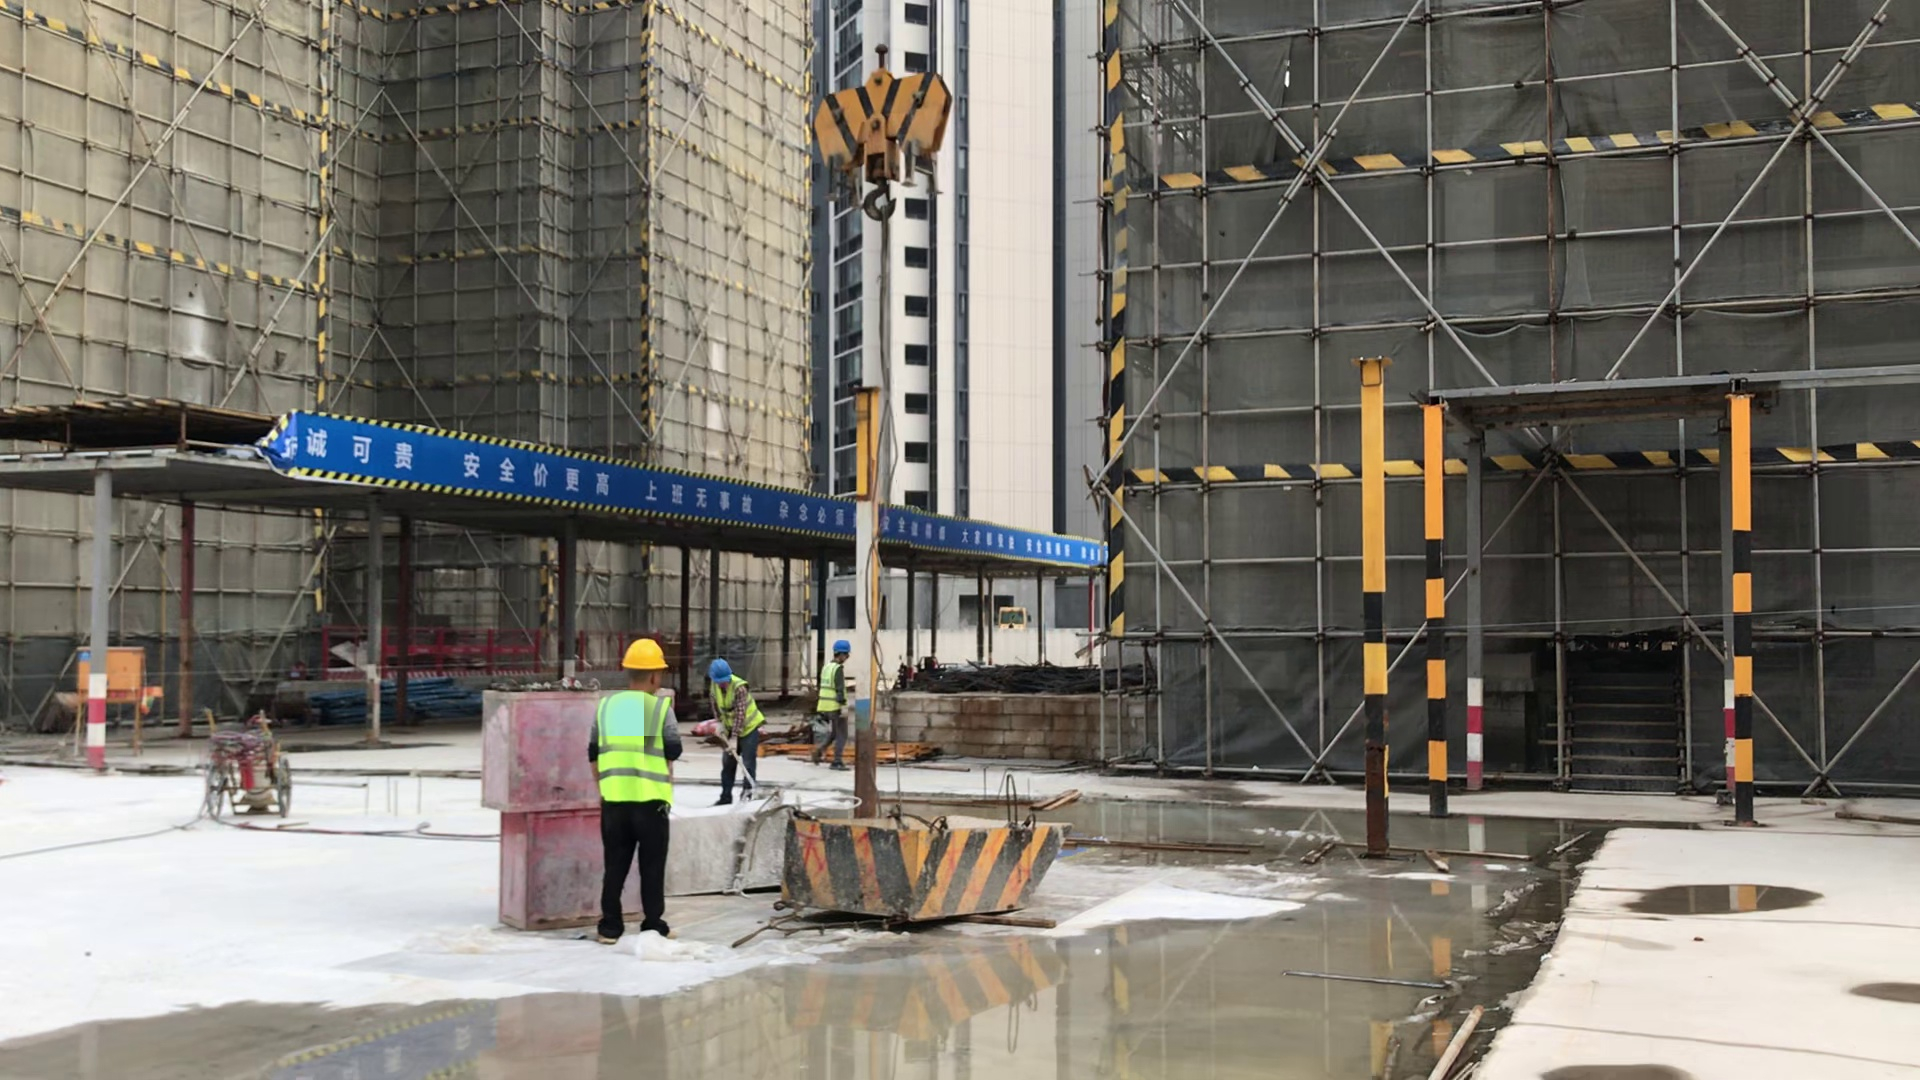ebox: (77, 643, 143, 701)
fence: (324, 631, 623, 685)
handcart: (201, 708, 296, 829)
helmet: (620, 638, 667, 672), (709, 659, 730, 684), (833, 640, 848, 654)
hook: (812, 45, 954, 223)
hopper: (798, 811, 1073, 935), (666, 803, 838, 896)
person: (587, 638, 682, 943), (706, 657, 766, 808), (812, 640, 849, 772)
slogan: (273, 408, 1109, 569)
vest: (596, 690, 675, 803), (712, 675, 763, 735), (814, 662, 842, 713)
